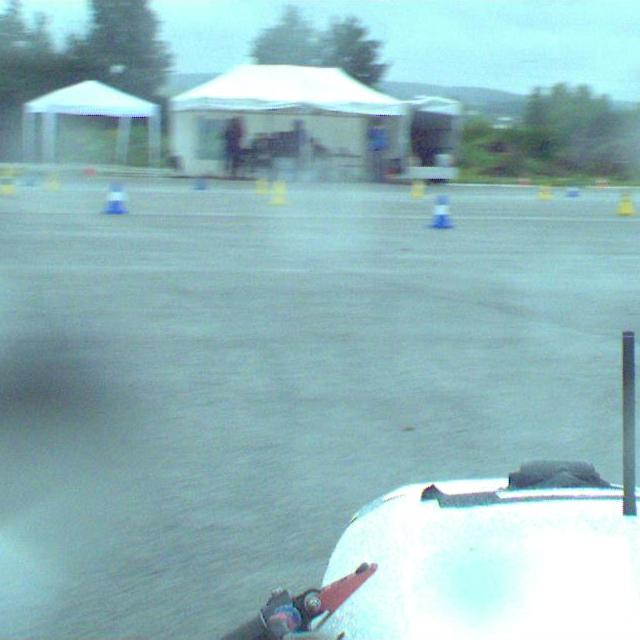Safety Cone: (425, 194, 457, 229), (102, 182, 129, 214), (616, 189, 636, 216), (267, 181, 288, 205), (0, 166, 17, 195), (42, 170, 60, 188), (193, 173, 211, 191), (20, 168, 37, 187), (409, 179, 424, 198), (251, 176, 266, 194), (536, 184, 553, 199), (563, 183, 580, 198), (518, 174, 530, 186), (595, 177, 608, 187)
